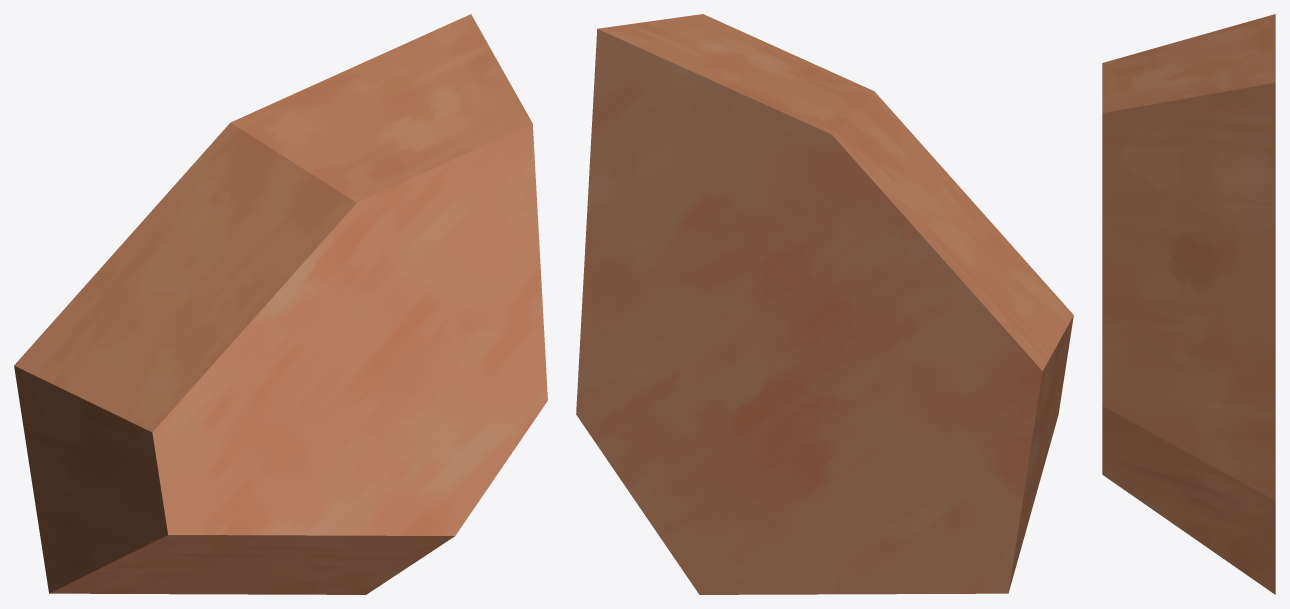
Rendered from wall_upper_s01.fbx.
The picture shows the model from 3 angles, left to right: view 1: azimuth 30°, elevation 25°; view 2: azimuth 150°, elevation 25°; view 3: azimuth 270°, elevation 25°; orthographic projection. The views are drawn at different scales.
Parts seen in each view (by area): view 1: wall_upper_s01; view 2: wall_upper_s01; view 3: wall_upper_s01.
Boxes of the visible parts, box(x1,y1,x2,y2) form: wall_upper_s01: box(14, 14, 547, 594); wall_upper_s01: box(576, 14, 1073, 594); wall_upper_s01: box(1102, 14, 1275, 594).
Size of the model in its own units: 3.25 by 3.6 by 1.
